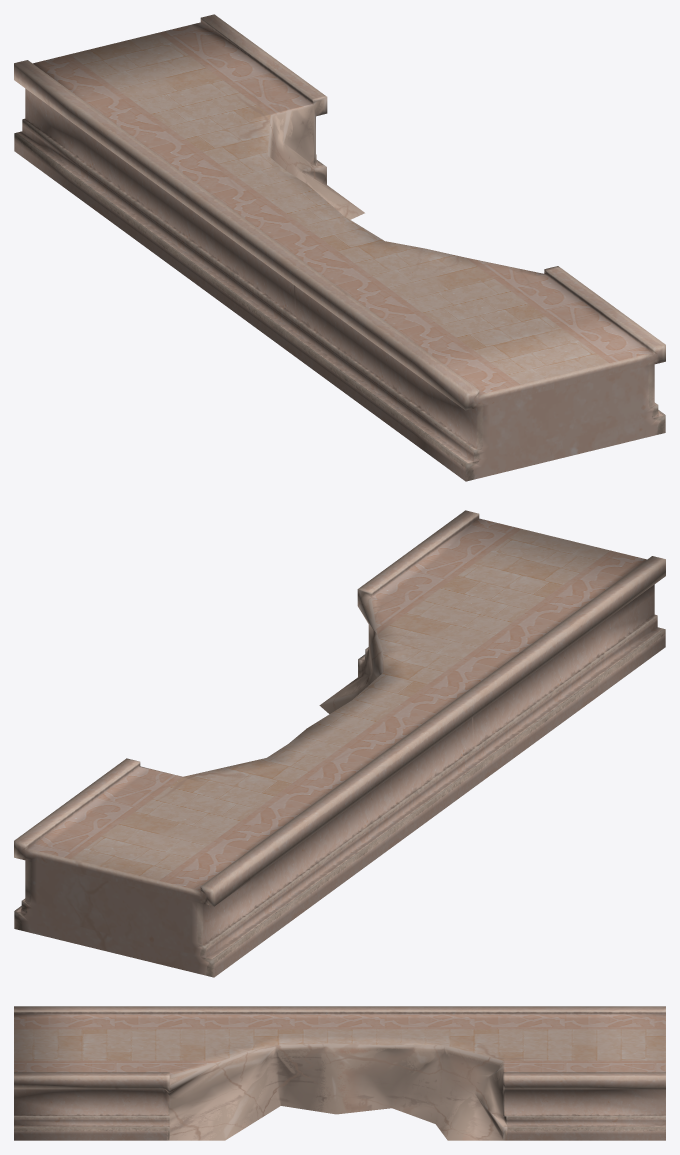
File: 右侧边缺口一格.fbx
3 renders of one model, top to bottom at view 1: azimuth 30°, elevation 25°; view 2: azimuth 150°, elevation 25°; view 3: azimuth 270°, elevation 25°, orthographic. The views are drawn at different scales.
Visible parts, largest first — view 1: 平面.026; view 2: 平面.026; view 3: 平面.026.
Boxes of the visible parts, left/top/right/bottom form: 平面.026: left=14, top=14, right=665, bottom=481; 平面.026: left=14, top=510, right=665, bottom=977; 平面.026: left=14, top=1006, right=665, bottom=1140.
Size of the model in its own units: 310 by 130 by 1210.
